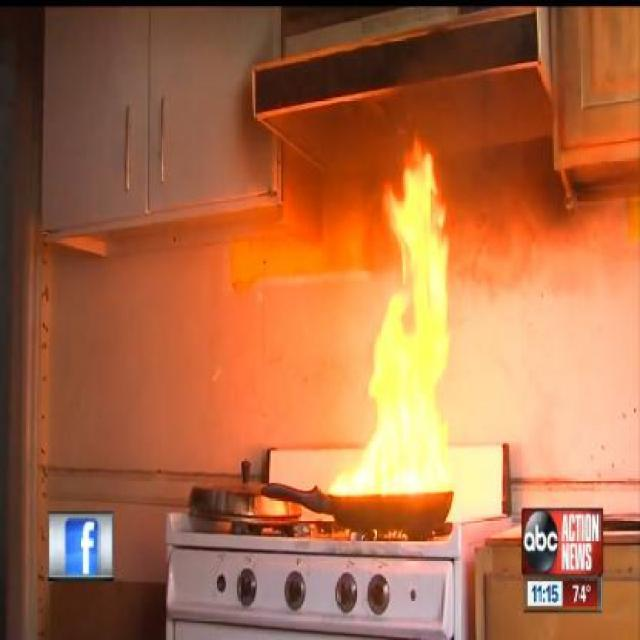Fire: (370, 134, 460, 500), (323, 452, 371, 496)
Smoke: (406, 4, 568, 258)
